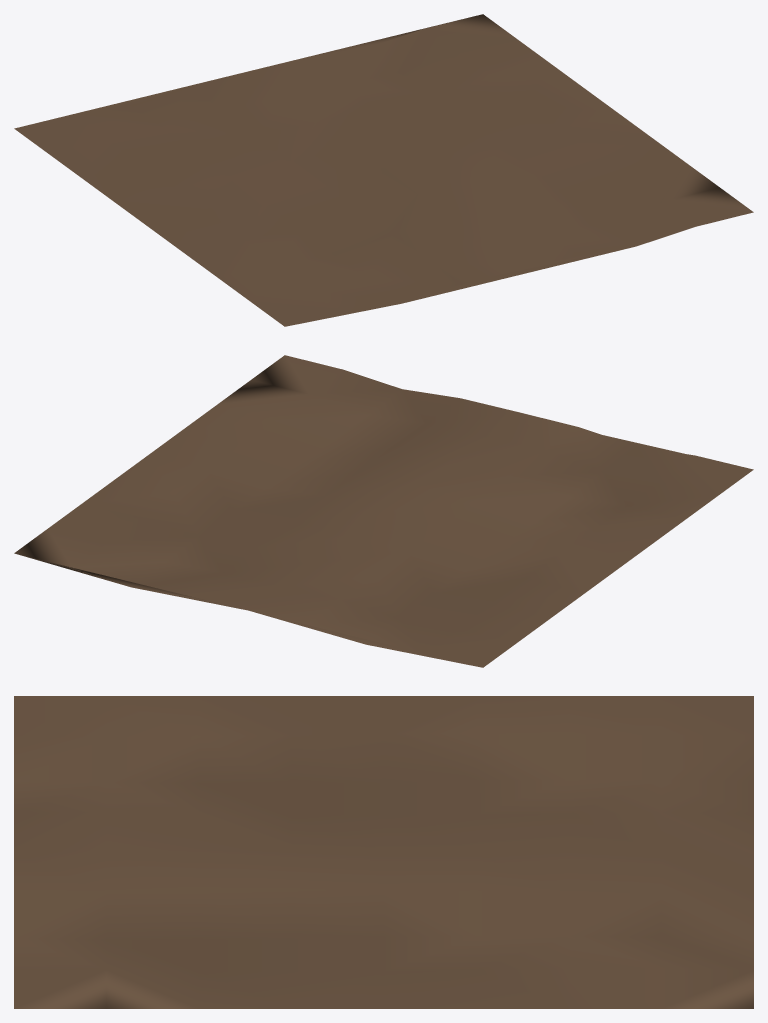
The model's file is road_dirt_tile_lod1.glb.
The picture shows the model from 3 angles, top to bottom: view 1: azimuth 30°, elevation 25°; view 2: azimuth 150°, elevation 25°; view 3: azimuth 270°, elevation 25°; orthographic projection. The views are drawn at different scales.
Bounding box in the file's own units: 2 × 0.0338 × 2.
